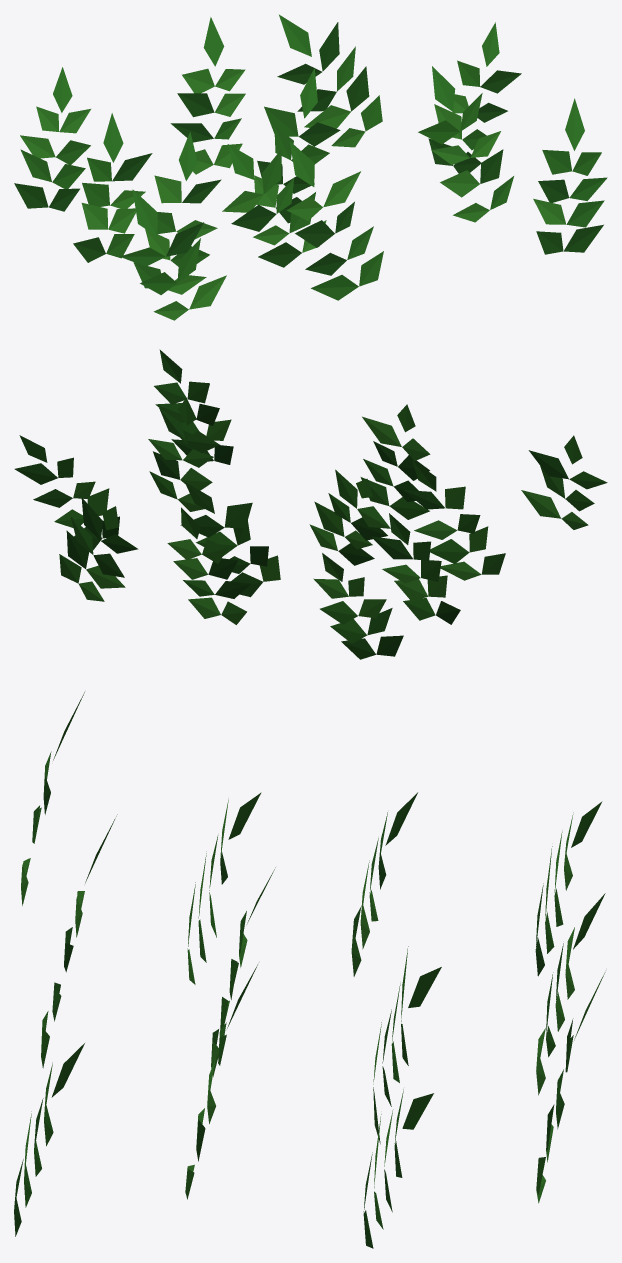
3 views of the same model, one above another, from view 1: azimuth 30°, elevation 25°; view 2: azimuth 150°, elevation 25°; view 3: azimuth 270°, elevation 25° (orthographic). The views are drawn at different scales.
Visible parts, largest first — view 1: r19c1_l00; view 2: r19c1_l00; view 3: r19c1_l00.
Boxes of the visible parts, x1,y1,x2,y2 form: r19c1_l00: [14, 14, 607, 320]; r19c1_l00: [14, 349, 607, 659]; r19c1_l00: [14, 692, 605, 1248].
Size of the model in its own units: 1.74 by 0.5288 by 1.13.
